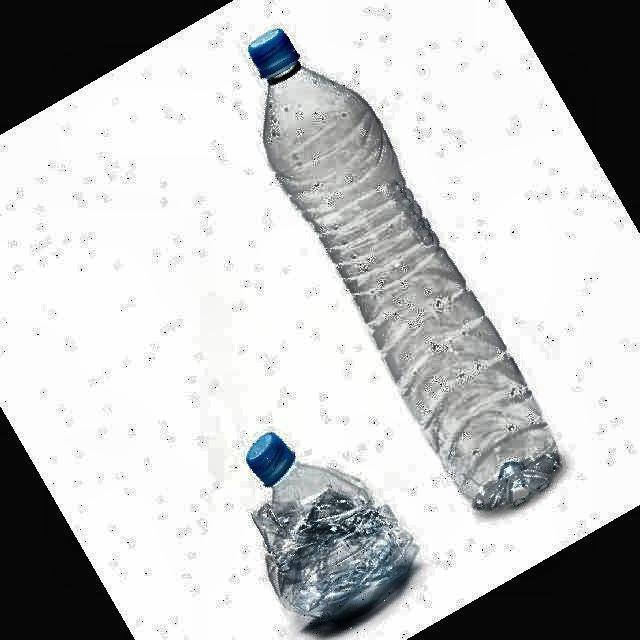plastic: (249, 29, 559, 509), (248, 432, 418, 624)
